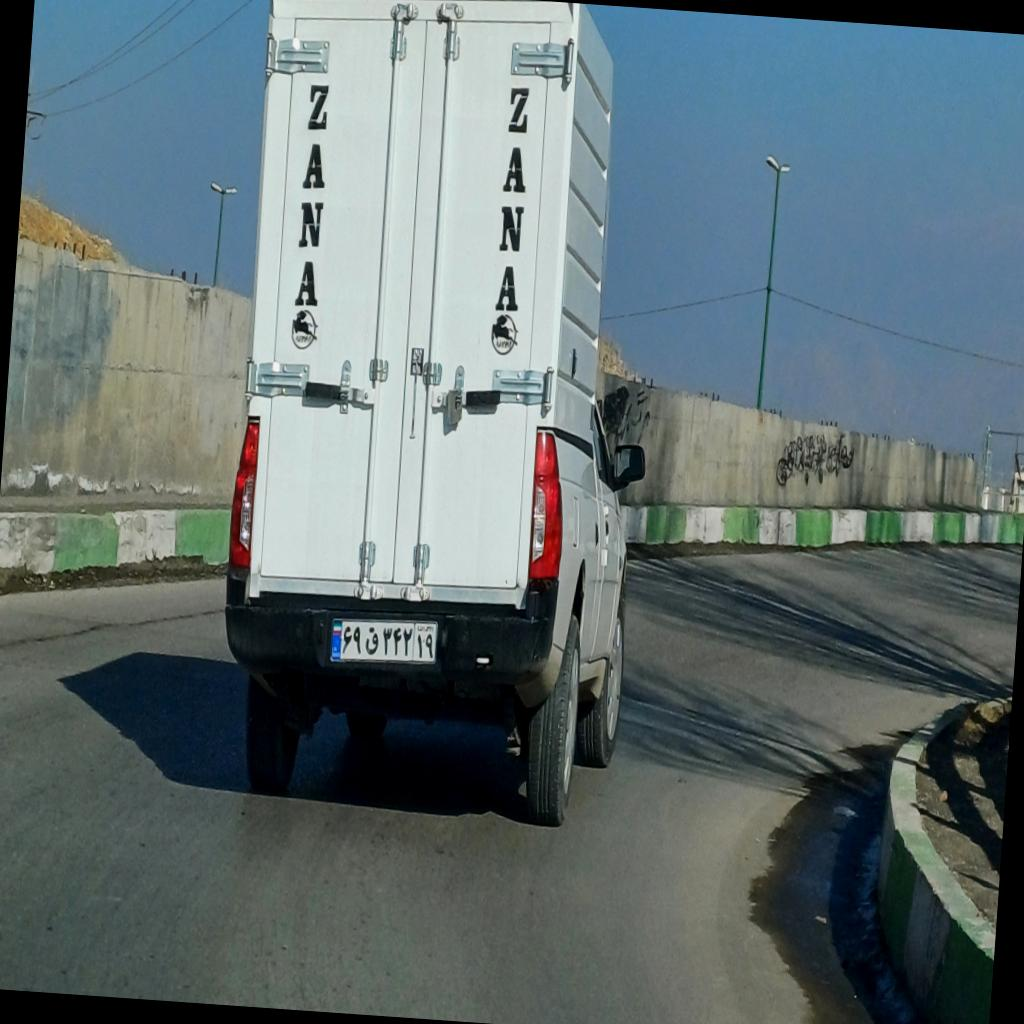Plates: (329, 616, 439, 667)
